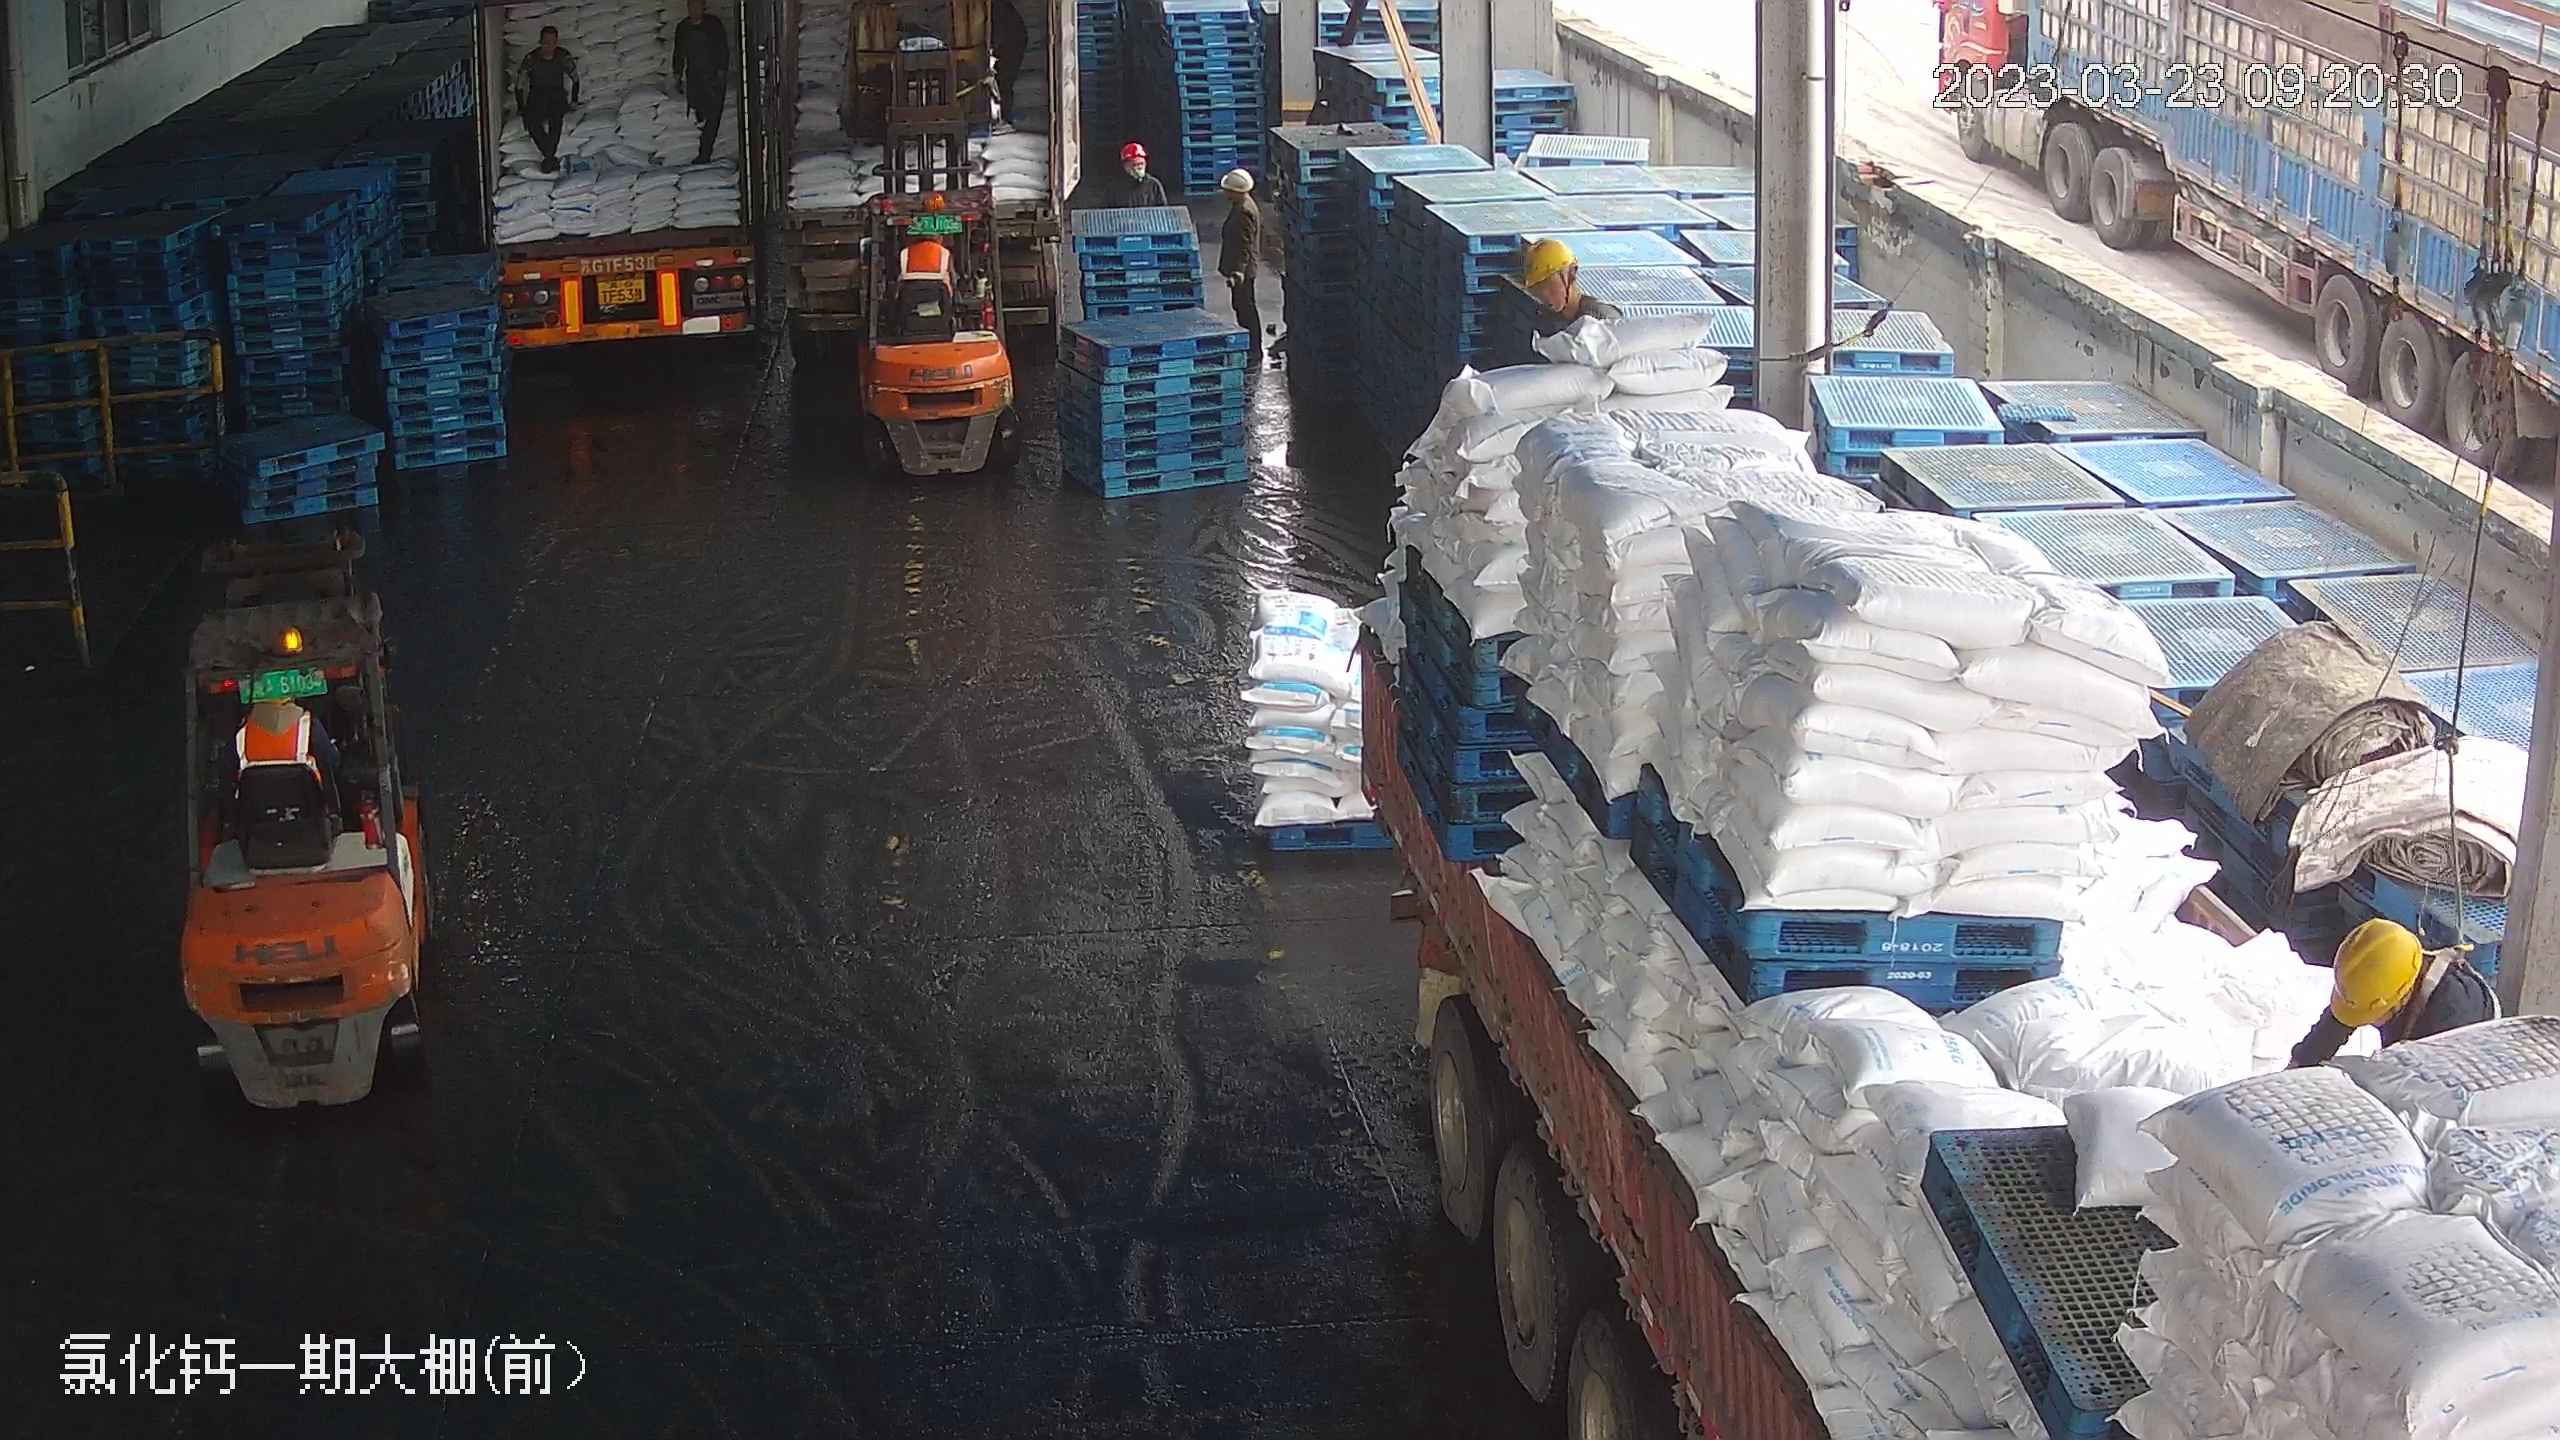belt: (2404, 939, 2495, 1035), (1534, 286, 1595, 334)
head: (2318, 912, 2491, 1039), (1516, 237, 1605, 320), (1213, 162, 1265, 240), (1103, 137, 1162, 198), (522, 19, 577, 74), (674, 1, 724, 44)
helmet: (2329, 913, 2424, 1025), (1521, 235, 1578, 283), (1220, 166, 1253, 195), (1114, 137, 1142, 163)
people: (1207, 155, 1270, 373), (673, 1, 736, 168), (515, 23, 581, 174)
truck: (1293, 188, 2524, 1440), (472, 11, 781, 355)
